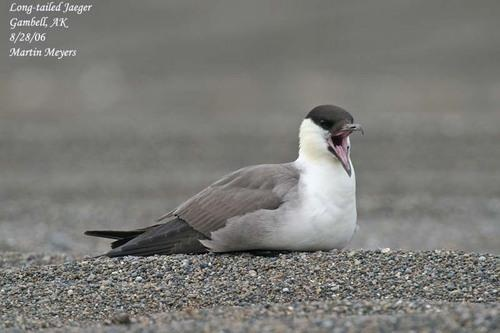bird: (90, 100, 362, 262)
